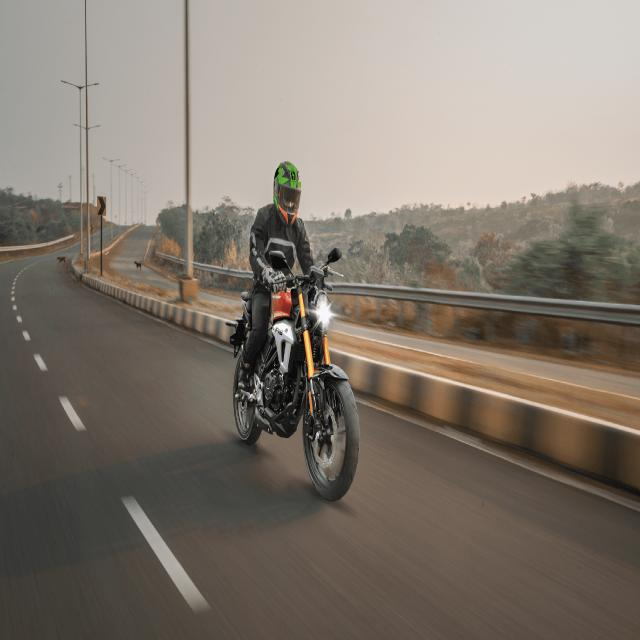MOTORCYCLE: (231, 276, 356, 510)
